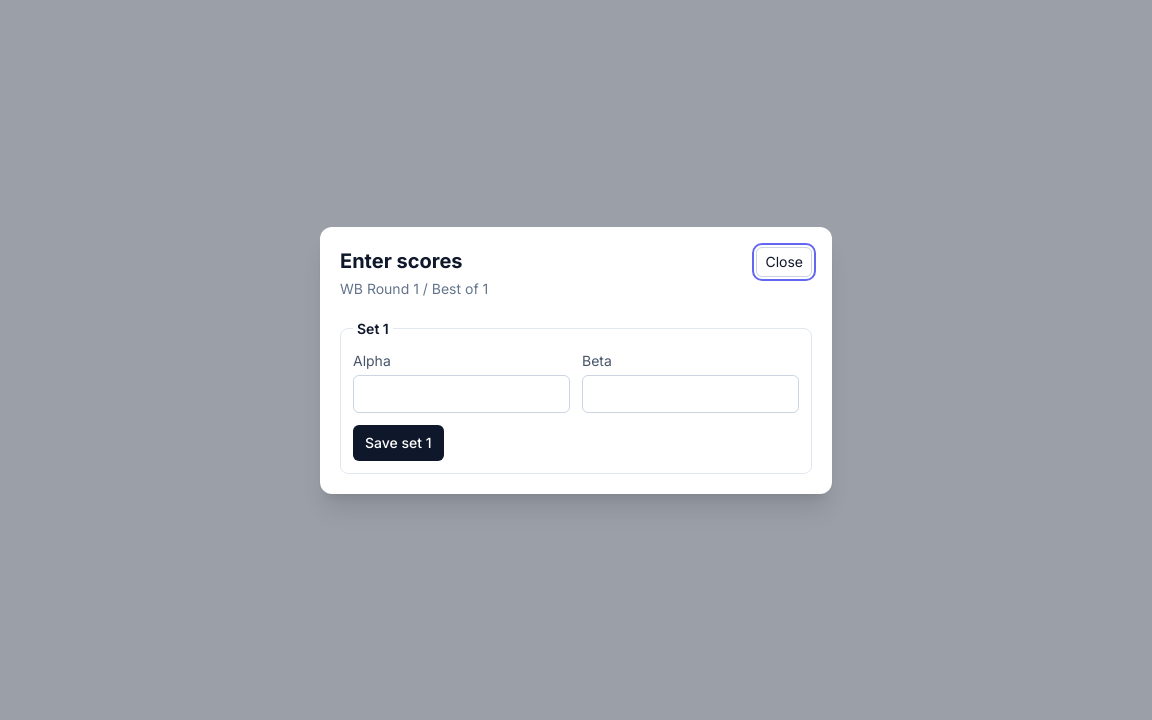
ScoreEntry › shows BO1 confirmation after saving a valid score
The image size is (1152, 720).
Type "11" into the number field labelled "Alpha".
click(462, 394); type("11")  # box [353, 374, 570, 412]
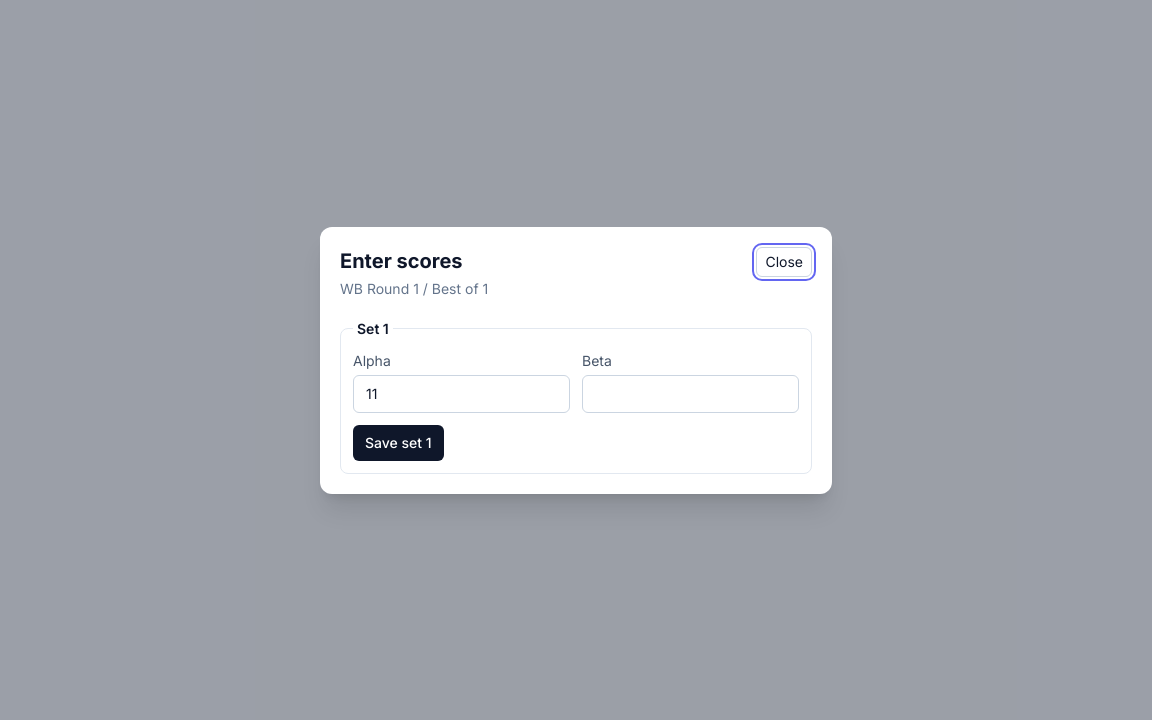
Type "9" into the number field labelled "Beta".
click(690, 394); type("9")  # box [582, 374, 799, 412]
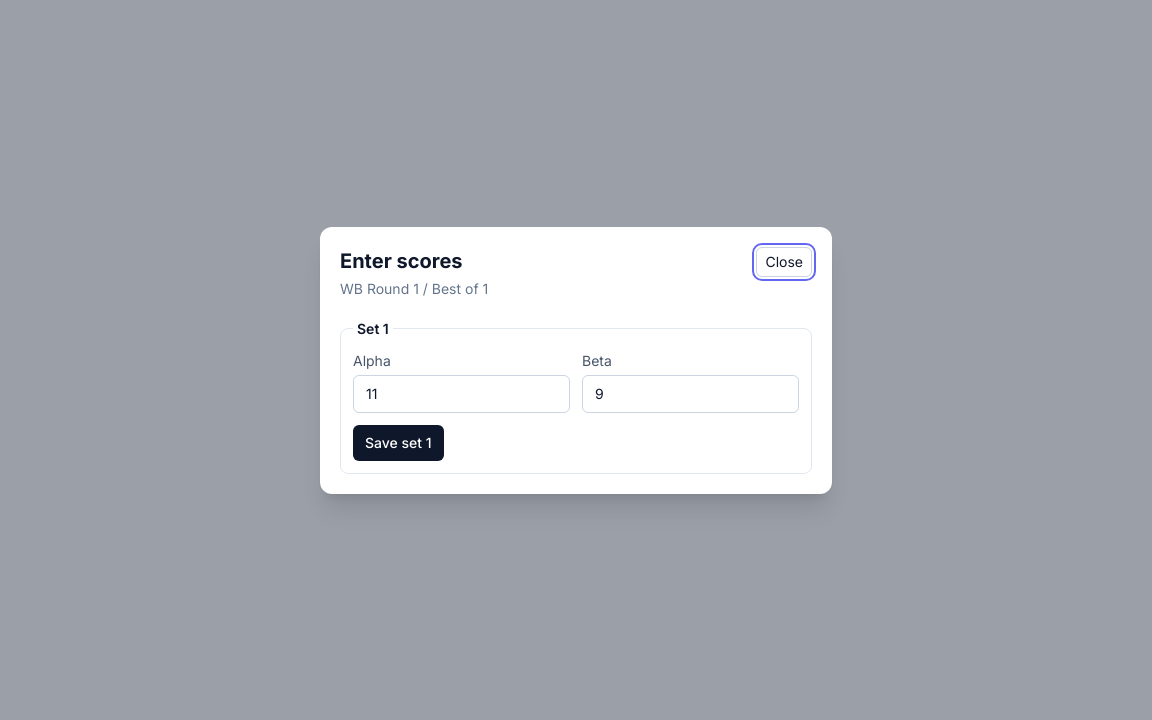
Click the button "Save set 1".
click(398, 442)  # box [353, 424, 444, 460]
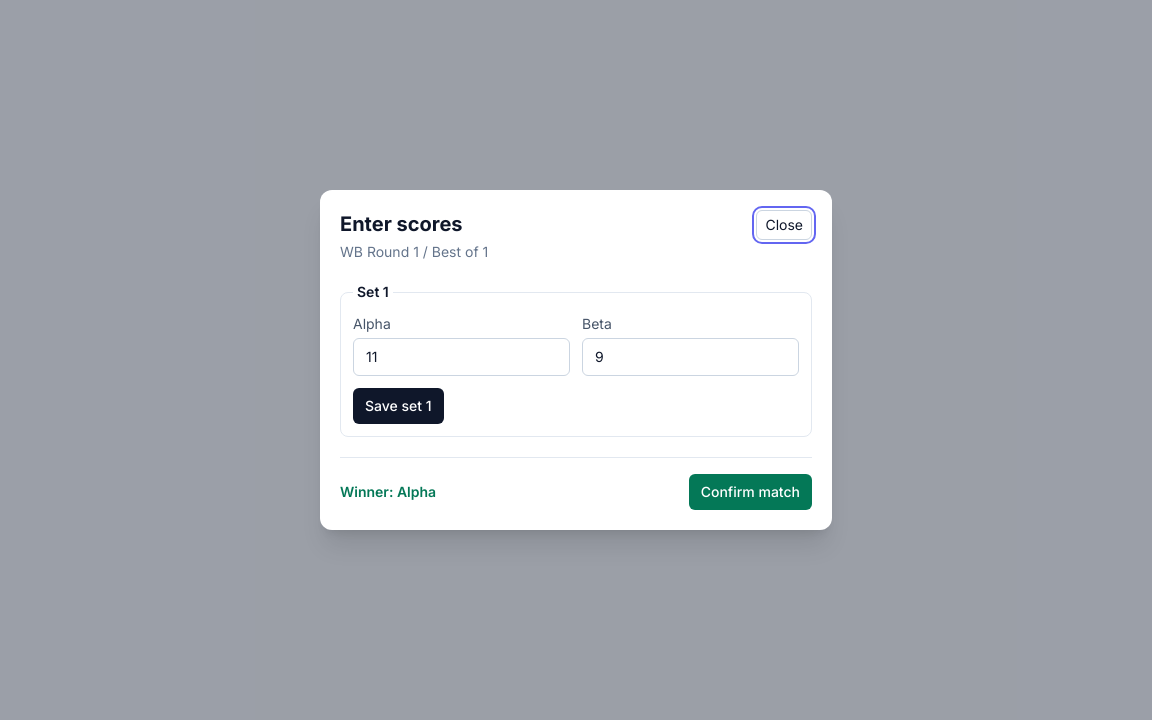
expect the button "Confirm match" is shown: met, box [689, 474, 812, 510]
